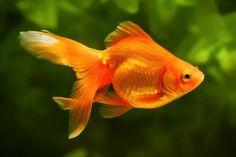goldfish: (31, 25, 215, 130)
